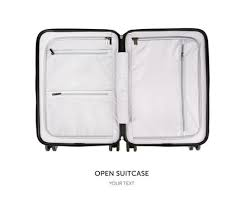suitcase: (31, 27, 216, 152)
